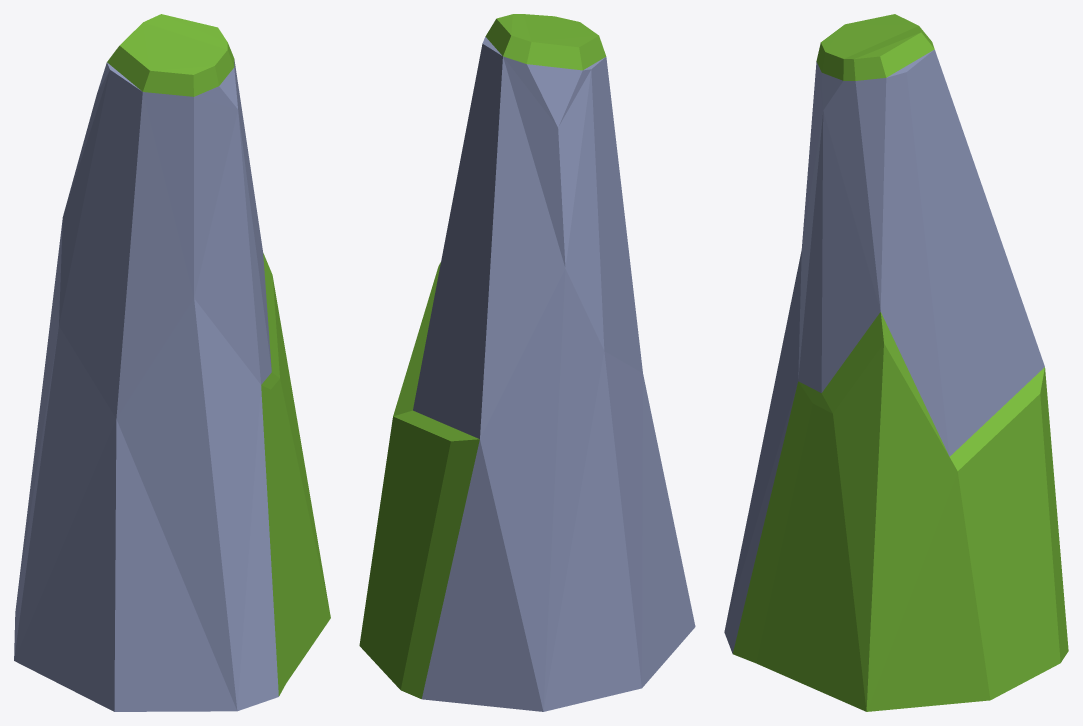
File: Rock_16_1.fbx
3 renders of one model, left to right at view 1: azimuth 30°, elevation 25°; view 2: azimuth 150°, elevation 25°; view 3: azimuth 270°, elevation 25°, orthographic.
Visible parts, largest first — view 1: Rock_16_1; view 2: Rock_16_1; view 3: Rock_16_1.
Part boxes in pixels (x1=…): Rock_16_1: x1=14, y1=14, x2=330, y2=711; Rock_16_1: x1=359, y1=14, x2=695, y2=711; Rock_16_1: x1=724, y1=14, x2=1068, y2=711.
Bounding box in the file's own units: 4.39 × 9.23 × 4.71.
